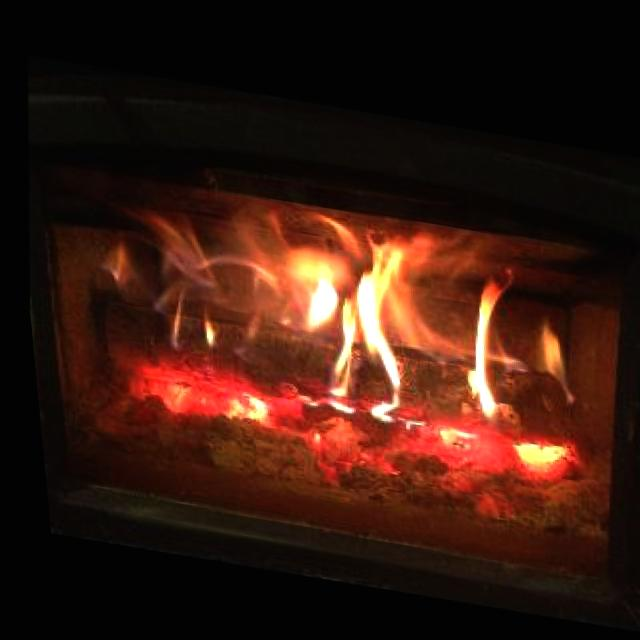helmet: (84, 164, 599, 510)
